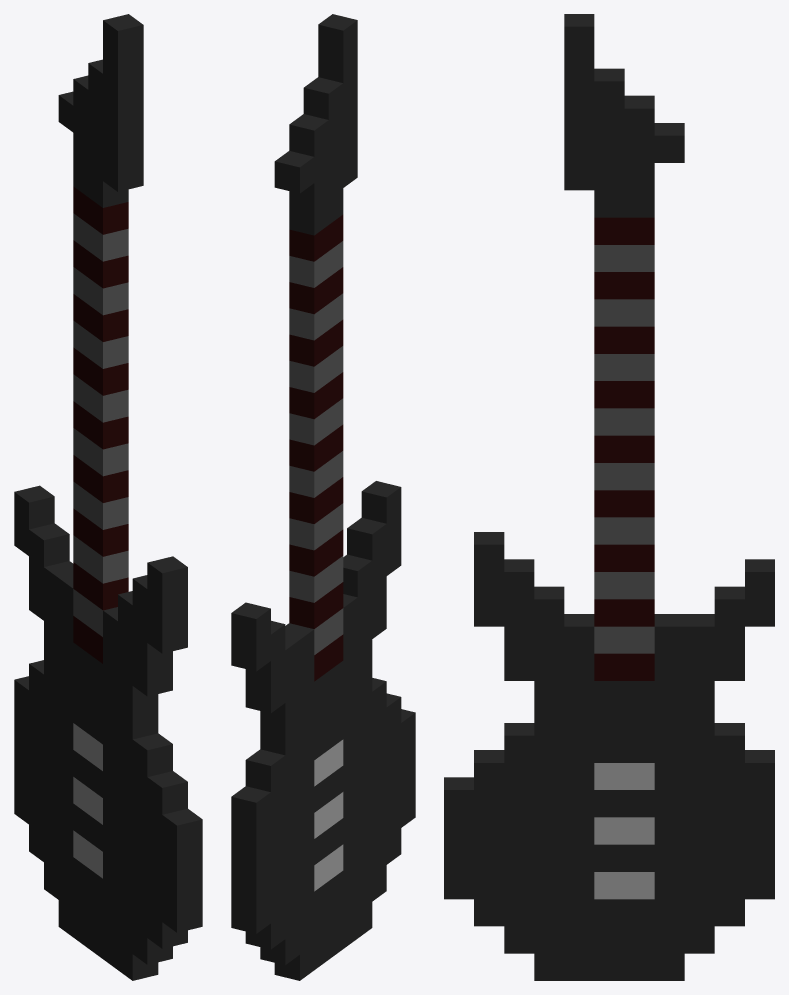
File: guitar.obj
The picture shows the model from 3 angles, left to right: view 1: azimuth 30°, elevation 25°; view 2: azimuth 150°, elevation 25°; view 3: azimuth 270°, elevation 25°; orthographic projection. The views are drawn at different scales.
Size of the model in its own units: 0.1 by 3.5 by 1.1.
1 material, 1 textured.
